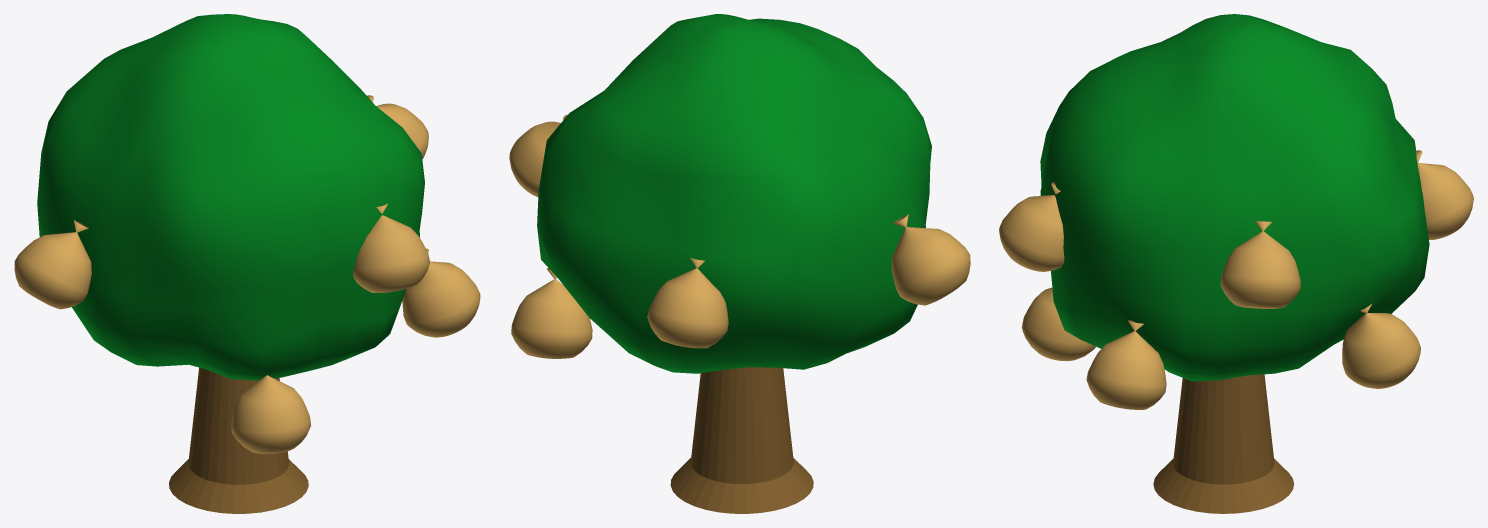
Rendered from money_bag.fbx.
The picture shows the model from 3 angles, left to right: view 1: azimuth 30°, elevation 25°; view 2: azimuth 150°, elevation 25°; view 3: azimuth 270°, elevation 25°; orthographic projection. The views are drawn at different scales.
Parts seen in each view (by area): view 1: 球, 円柱, 球.008, 球.001, 球.003, 球.002, 球.004; view 2: 球, 円柱, 球.008, 球.007, 球.005, 球.004; view 3: 球, 円柱, 球.005, 球.003, 球.004, 球.002, 球.007, 球.001.
Part boxes in pixels (x1,y1,x2,y2): 球: [37, 14, 424, 380]; 円柱: [169, 367, 308, 513]; 球.008: [14, 220, 91, 309]; 球.001: [231, 375, 310, 454]; 球.003: [402, 248, 480, 337]; 球.002: [353, 203, 429, 292]; 球.004: [367, 95, 428, 159]; 球: [537, 14, 931, 373]; 円柱: [670, 367, 813, 513]; 球.008: [891, 214, 970, 305]; 球.007: [647, 257, 728, 348]; 球.005: [511, 268, 592, 358]; 球.004: [509, 114, 567, 196]; 球: [1040, 14, 1429, 381]; 円柱: [1153, 374, 1294, 513]; 球.005: [1342, 304, 1420, 388]; 球.003: [1086, 320, 1166, 409]; 球.004: [1220, 221, 1300, 308]; 球.002: [999, 182, 1064, 271]; 球.007: [1416, 150, 1473, 239]; 球.001: [1021, 287, 1095, 361].
Size of the model in its own units: 1126 by 1166 by 1094.
